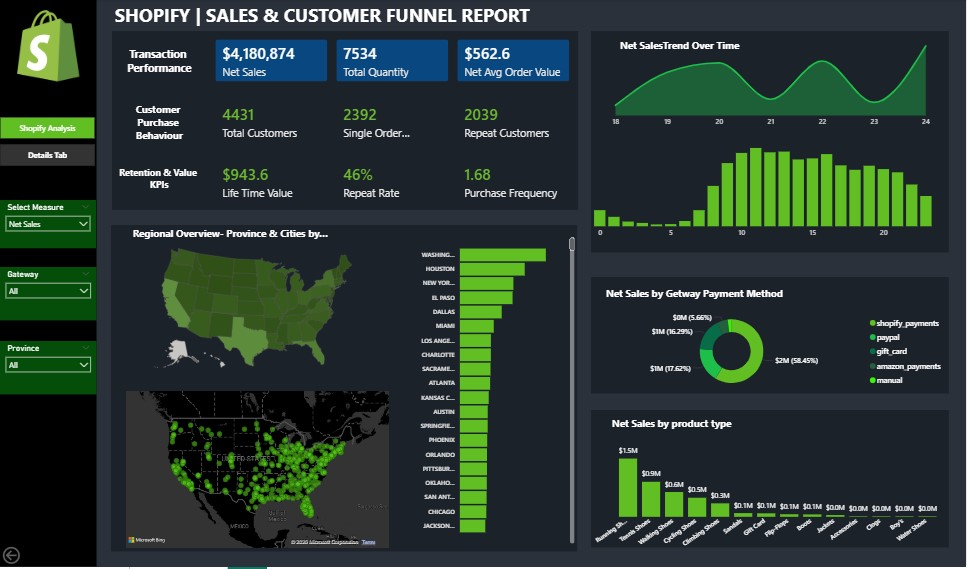

The dashboard page shown, as its layout file describes it:
{"tool":"powerbi","page":{"name":"Shopify Analysis","canvas":[1700,1000],"ordinal":0},"visuals":[{"type":"shape","box":[0,0,170,999.5],"z":0},{"type":"textbox","box":[196.9,0,746.1,57.1],"z":1000},{"type":"shape","box":[196.9,57.1,820.9,315],"z":2000},{"type":"cardVisual","fields":{"Data":["shopify_sales.Net Sales","shopify_sales.Total Quantity","shopify_sales.Net Avg Order Value"]},"box":[366,58,650,100],"z":3000},{"type":"card","fields":{"Values":["shopify_sales.Transaction Perf"]},"box":[196,58,170,100],"z":4000},{"type":"cardVisual","fields":{"Data":["shopify_sales.Total Customers","shopify_sales.Single Order Customers","shopify_sales.Repeat Customers"]},"box":[366,165.2,650,100],"z":5000},{"type":"card","fields":{"Values":["shopify_sales.Customer Purchase Behaviour"]},"box":[196.2,163.8,170,100],"z":6000},{"type":"cardVisual","fields":{"Data":["shopify_sales.Life Time Value","shopify_sales.Repeat Rate","shopify_sales.Purchase Frequency"]},"box":[366.7,271.7,650,100],"z":7000},{"type":"card","fields":{"Values":["shopify_sales.Retention & Value KPIs"]},"box":[196.2,272.5,170,100],"z":8000},{"type":"shape","box":[194.9,397.6,820.9,574.8],"z":9000},{"type":"actionButton","box":[0,960,100,40],"z":10000},{"type":"slicer","fields":{"Values":["Select Measure.Select Measure"]},"box":[0,354.3,169.3,84.6],"z":11000},{"type":"shapeMap","fields":{"Value":["shopify_sales.Net Sales"],"Category":["shopify_sales.Billing Address Province"]},"box":[217.1,422.9,457.1,242.9],"z":12000},{"type":"map","fields":{"Category":["shopify_sales.Location"]},"box":[216.5,685,474.4,287.4],"z":13000},{"type":"clusteredBarChart","fields":{"Y":["shopify_sales.Net Sales"],"Category":["shopify_sales.CITY"]},"box":[722.9,407.1,292.9,557.1],"z":14000},{"type":"card","fields":{"Values":["shopify_sales.Map Titel"]},"box":[227.1,397.1,357.1,31.4],"z":15000},{"type":"shape","box":[1040,57.1,630,390],"z":16000},{"type":"areaChart","fields":{"Y":["shopify_sales.Net Sales"],"Category":["shopify_sales.Invoice Date.Variation.Date Hierarchy.Day"]},"box":[1068,58,576,176],"z":17000},{"type":"columnChart","fields":{"Y":["shopify_sales.Net Sales"],"Category":["shopify_sales.Hour"]},"box":[1040,234,630,196],"z":18000},{"type":"card","fields":{"Values":["shopify_sales.Trend Titel"]},"box":[1040,58,312,50],"z":19000},{"type":"shape","box":[1040,490,630,205],"z":20000},{"type":"donutChart","fields":{"Y":["shopify_sales.Net Sales"],"Category":["shopify_sales.Gateway"]},"box":[1040,544,630,152],"z":21000},{"type":"card","fields":{"Values":["shopify_sales.Getway Title"]},"box":[1040,494,364,50],"z":22000},{"type":"shape","box":[1040,724,630,242],"z":23000},{"type":"columnChart","fields":{"Y":["shopify_sales.Net Sales"],"Category":["shopify_sales.Product Type"]},"box":[1040,774,630,200],"z":24000},{"type":"card","fields":{"Values":["shopify_sales.Product Title"]},"box":[1040,724,284,50],"z":25000},{"type":"image","box":[0,20,170,126],"z":26000},{"type":"slicer","fields":{"Values":["shopify_sales.Gateway"]},"box":[0,472,170,94],"z":27000},{"type":"slicer","fields":{"Values":["shopify_sales.Gateway","shopify_sales.Billing Address Province"]},"box":[0,602,170,94],"z":28000},{"type":"pageNavigator","box":[0,208.6,167.1,87.1],"z":29000}]}

Visuals, with their boxes on the page's 1700x1000 design canvas (x1, y1, x2, y2). These are canvas units, not pixel positions in the 967x569 screenshot, which may show the page scaled, cropped or inside an application window:
shape: left=0, top=0, right=170, bottom=1000
textbox: left=197, top=0, right=943, bottom=57
shape: left=197, top=57, right=1018, bottom=372
cardVisual - shopify_sales.Net Sales x shopify_sales.Total Quantity: left=366, top=58, right=1016, bottom=158
card - shopify_sales.Transaction Perf: left=196, top=58, right=366, bottom=158
cardVisual - shopify_sales.Total Customers x shopify_sales.Single Order Customers: left=366, top=165, right=1016, bottom=265
card - shopify_sales.Customer Purchase Behaviour: left=196, top=164, right=366, bottom=264
cardVisual - shopify_sales.Life Time Value x shopify_sales.Repeat Rate: left=367, top=272, right=1017, bottom=372
card - shopify_sales.Retention & Value KPIs: left=196, top=272, right=366, bottom=372
shape: left=195, top=398, right=1016, bottom=972
actionButton: left=0, top=960, right=100, bottom=1000
slicer - Select Measure.Select Measure: left=0, top=354, right=169, bottom=439
shapeMap - shopify_sales.Net Sales x shopify_sales.Billing Address Province: left=217, top=423, right=674, bottom=666
map - shopify_sales.Location: left=216, top=685, right=691, bottom=972
clusteredBarChart - shopify_sales.Net Sales x shopify_sales.CITY: left=723, top=407, right=1016, bottom=964
card - shopify_sales.Map Titel: left=227, top=397, right=584, bottom=428
shape: left=1040, top=57, right=1670, bottom=447
areaChart - shopify_sales.Net Sales x shopify_sales.Invoice Date.Variation.Date Hierarchy.Day: left=1068, top=58, right=1644, bottom=234
columnChart - shopify_sales.Net Sales x shopify_sales.Hour: left=1040, top=234, right=1670, bottom=430
card - shopify_sales.Trend Titel: left=1040, top=58, right=1352, bottom=108
shape: left=1040, top=490, right=1670, bottom=695
donutChart - shopify_sales.Net Sales x shopify_sales.Gateway: left=1040, top=544, right=1670, bottom=696
card - shopify_sales.Getway Title: left=1040, top=494, right=1404, bottom=544
shape: left=1040, top=724, right=1670, bottom=966
columnChart - shopify_sales.Net Sales x shopify_sales.Product Type: left=1040, top=774, right=1670, bottom=974
card - shopify_sales.Product Title: left=1040, top=724, right=1324, bottom=774
image: left=0, top=20, right=170, bottom=146
slicer - shopify_sales.Gateway: left=0, top=472, right=170, bottom=566
slicer - shopify_sales.Gateway x shopify_sales.Billing Address Province: left=0, top=602, right=170, bottom=696
pageNavigator: left=0, top=209, right=167, bottom=296
